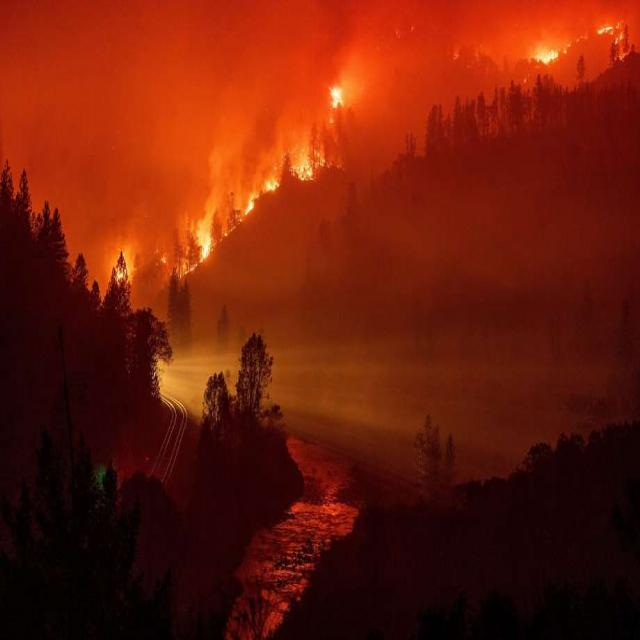Fire: (194, 30, 453, 266), (93, 224, 138, 284), (523, 29, 565, 70)
Smoke: (3, 9, 292, 224)
